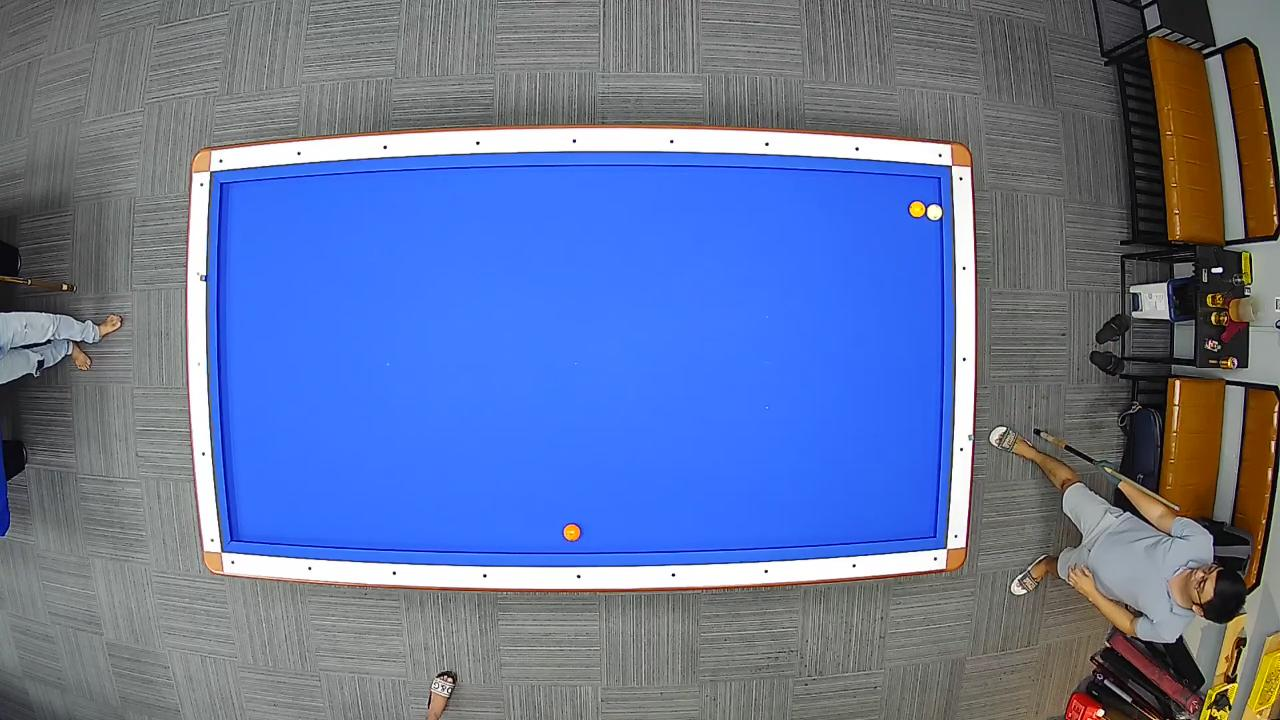Orange: (562, 523, 582, 542)
White: (926, 202, 943, 222)
Yellow: (908, 200, 926, 219)
